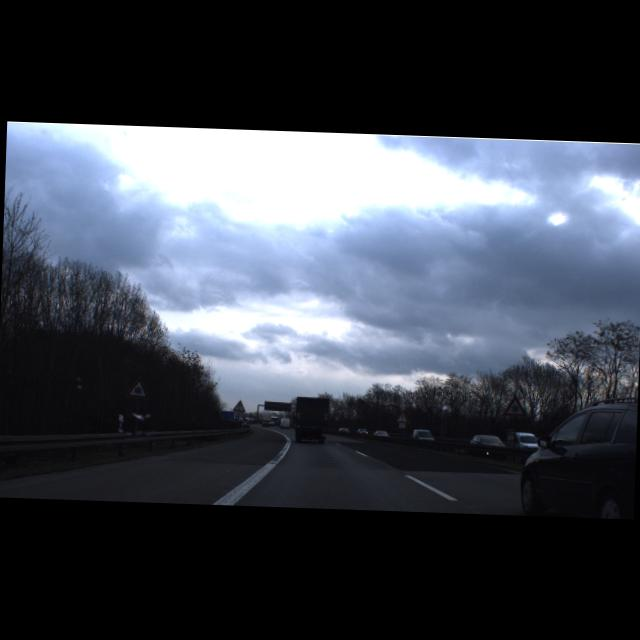danger: (124, 374, 150, 398), (502, 394, 528, 416), (395, 410, 410, 424), (232, 399, 245, 411)
